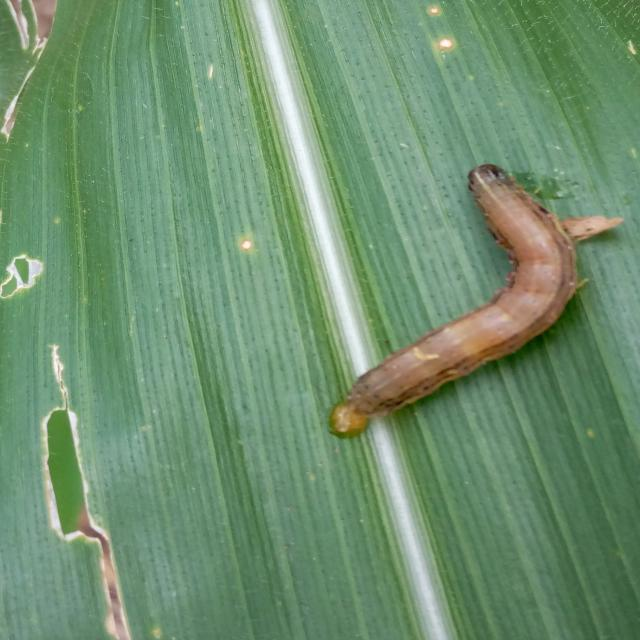yellow-stem-borer-larva: (306, 137, 593, 448)
